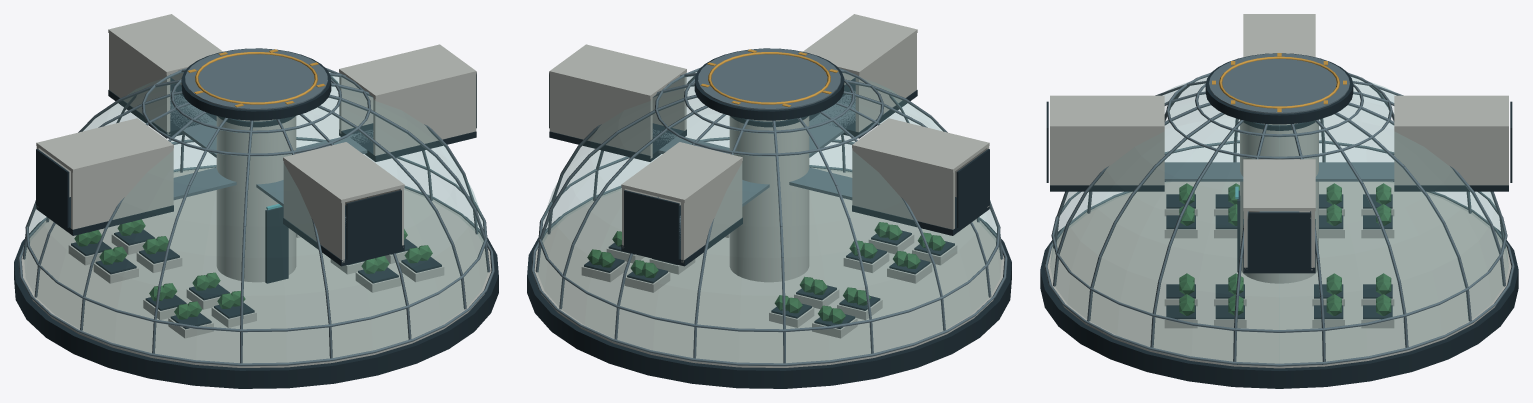
Rendered from biosphere_d0_lod1.glb.
3 renders of one model, left to right at view 1: azimuth 30°, elevation 25°; view 2: azimuth 150°, elevation 25°; view 3: azimuth 270°, elevation 25°, orthographic.
Visible parts, largest first — view 1: BODY, SHELL, PORT_CAP_N, PORT_CAP_W; view 2: BODY, SHELL, PORT_CAP_S, PORT_CAP_W; view 3: BODY, SHELL, PORT_CAP_E.
Part boxes in pixels (x1=…): BODY: x1=14, y1=14, x2=498, y2=388; SHELL: x1=24, y1=72, x2=487, y2=362; PORT_CAP_N: x1=346, y1=190, x2=401, y2=259; PORT_CAP_W: x1=36, y1=149, x2=69, y2=227; BODY: x1=527, y1=14, x2=1011, y2=388; SHELL: x1=538, y1=72, x2=1001, y2=362; PORT_CAP_S: x1=624, y1=190, x2=679, y2=259; PORT_CAP_W: x1=956, y1=149, x2=989, y2=227; BODY: x1=1040, y1=14, x2=1518, y2=388; SHELL: x1=1050, y1=76, x2=1508, y2=363; PORT_CAP_E: x1=1248, y1=212, x2=1310, y2=268.
Bounding box in the file's own units: 29.2 × 13.89 × 29.2.
